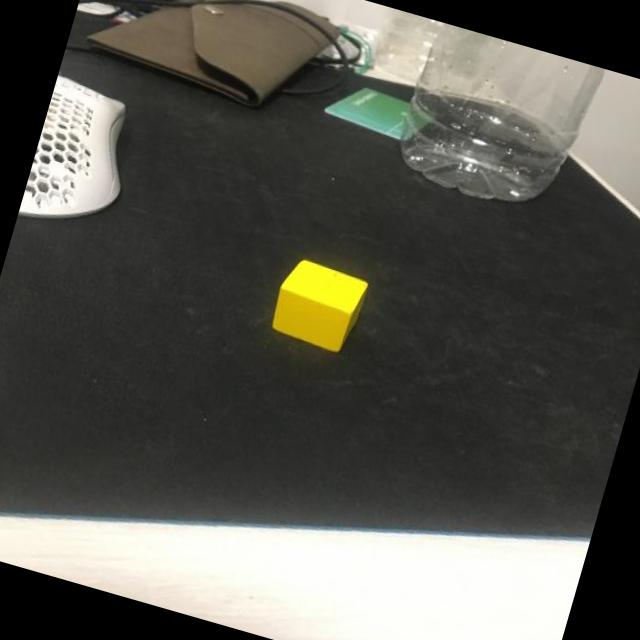yellow: (268, 254, 370, 356)
